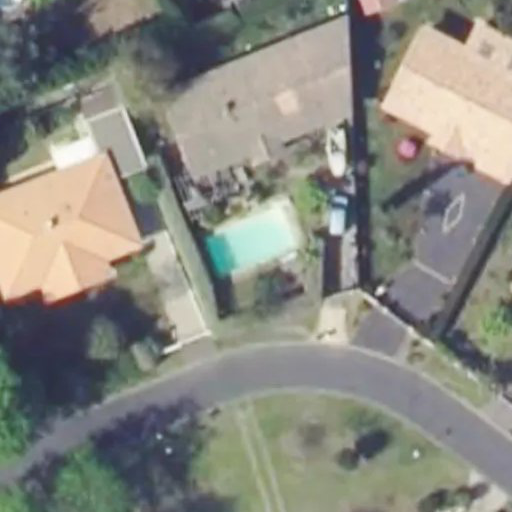pool: (209, 237, 302, 246)
